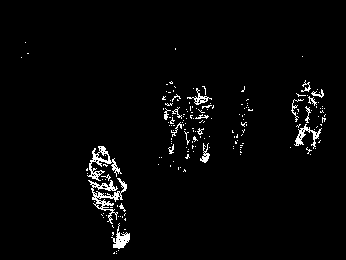person: (87, 144, 132, 253), (193, 82, 215, 164), (160, 80, 182, 154), (180, 87, 200, 164), (290, 78, 311, 150), (306, 87, 327, 155)
